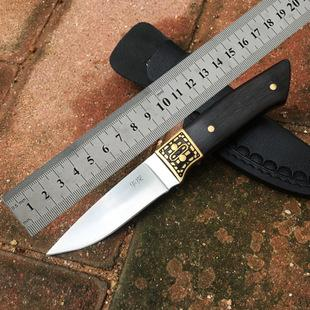knife: (32, 58, 302, 268)
